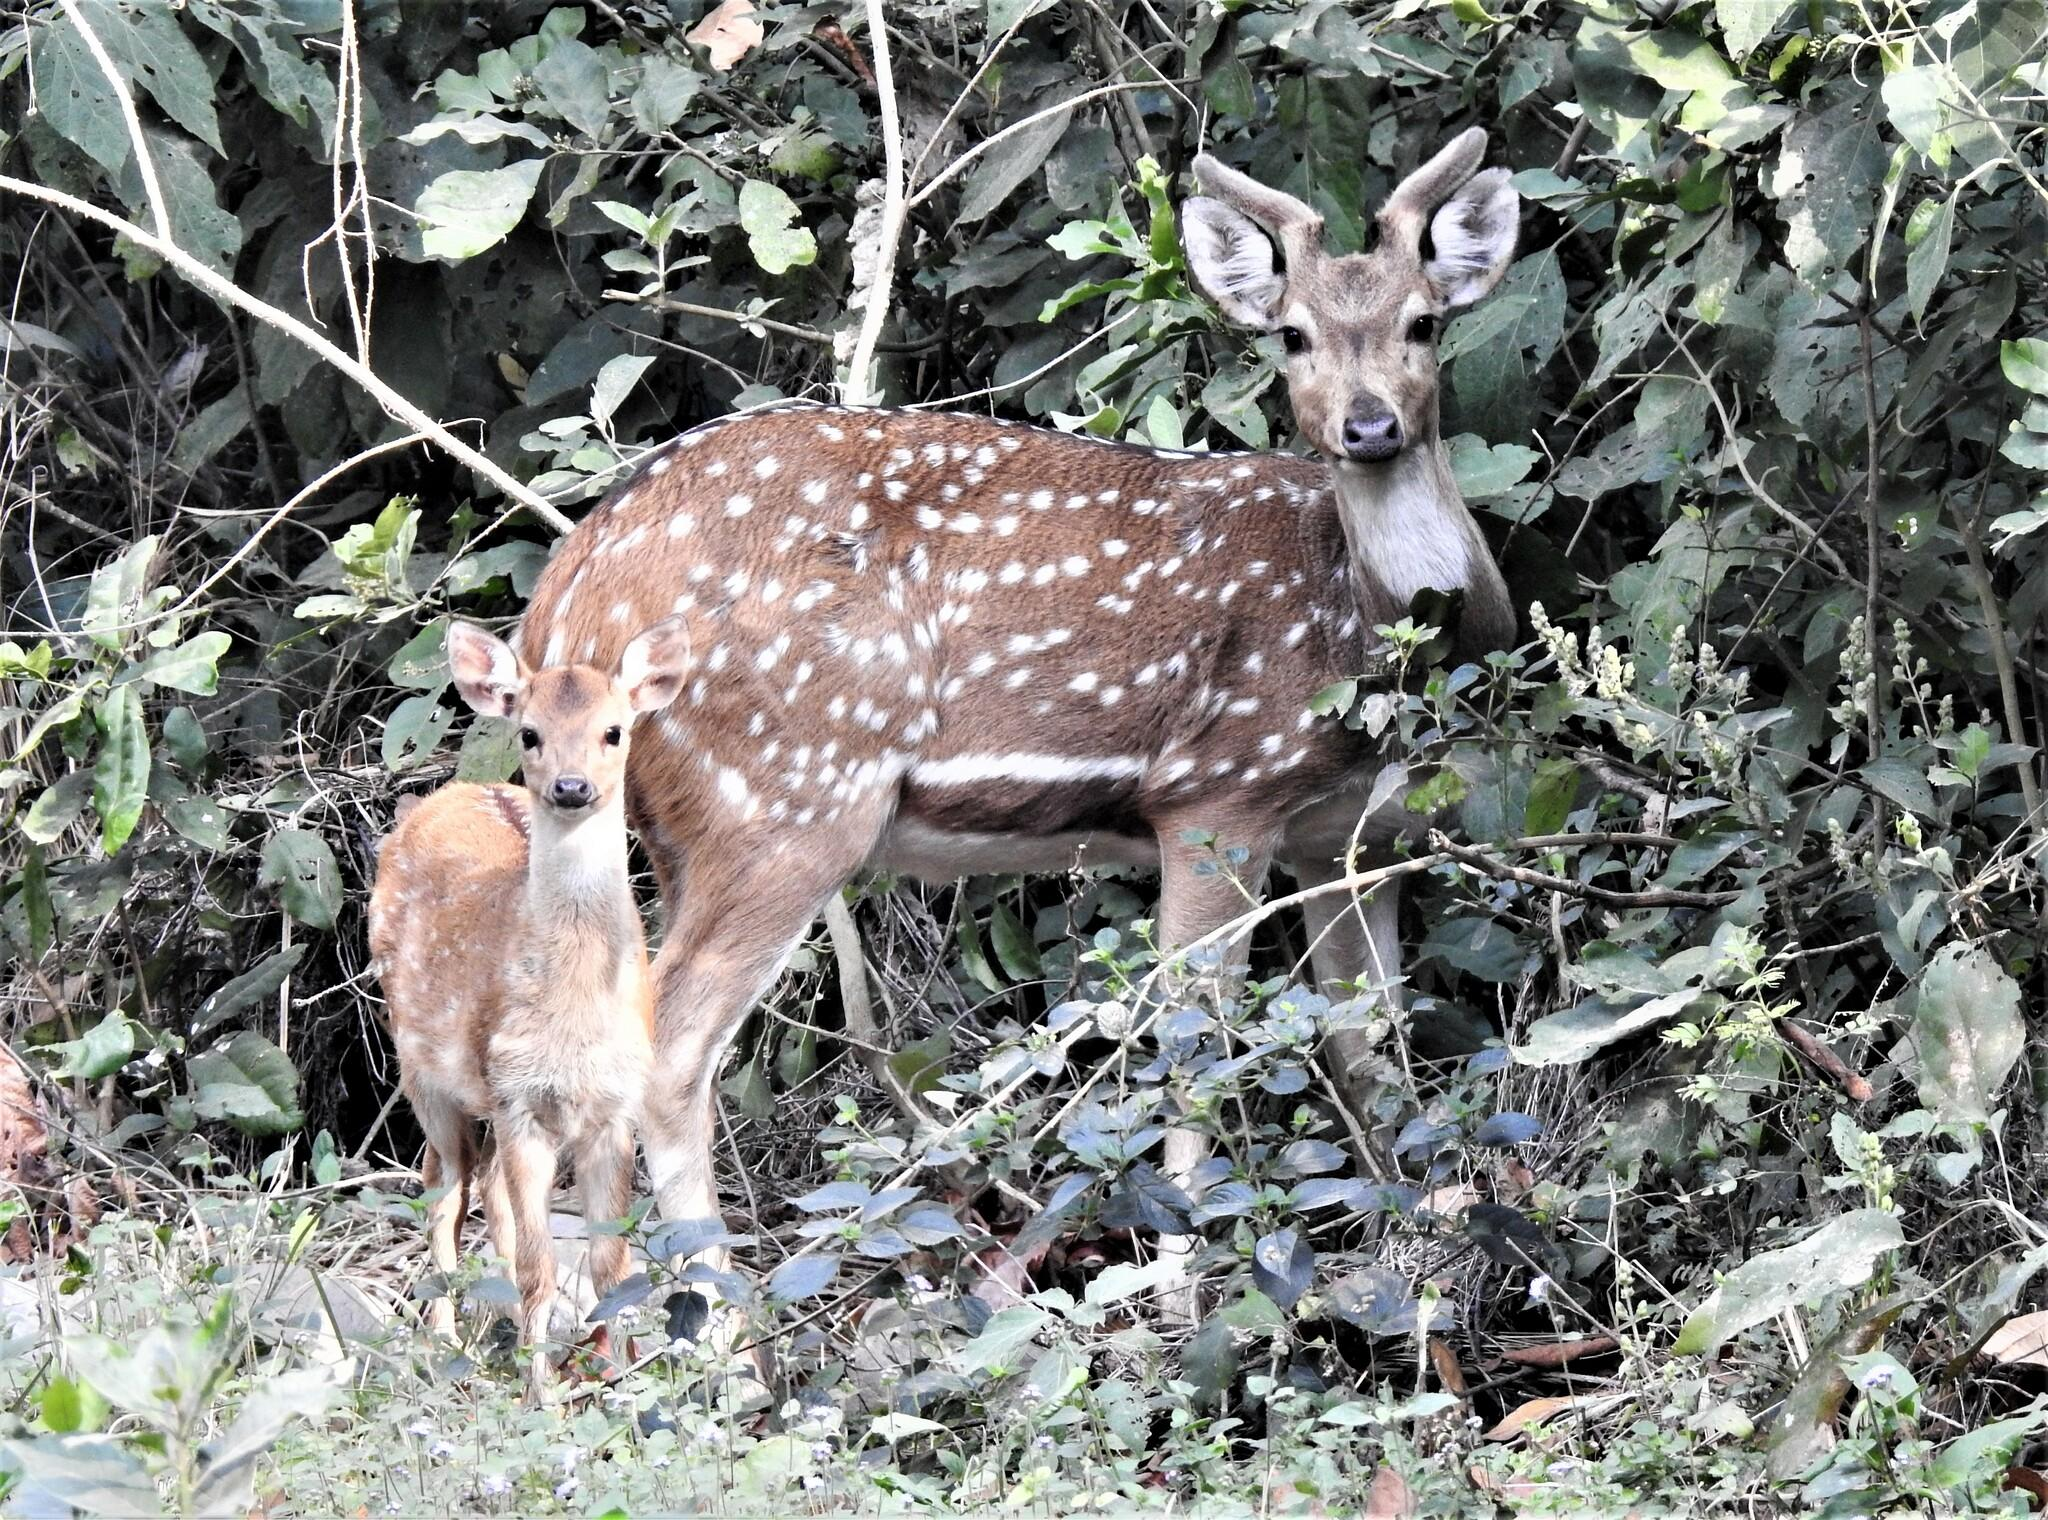Deer: (519, 128, 1518, 1218), (370, 623, 690, 1346)
